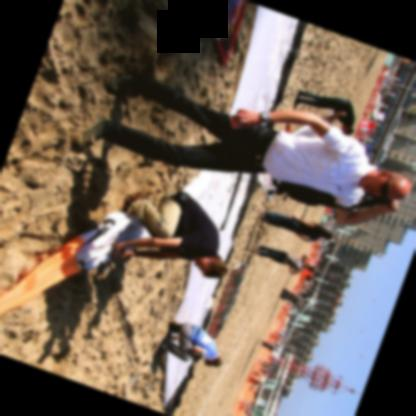backpack: (278, 180, 335, 206)
